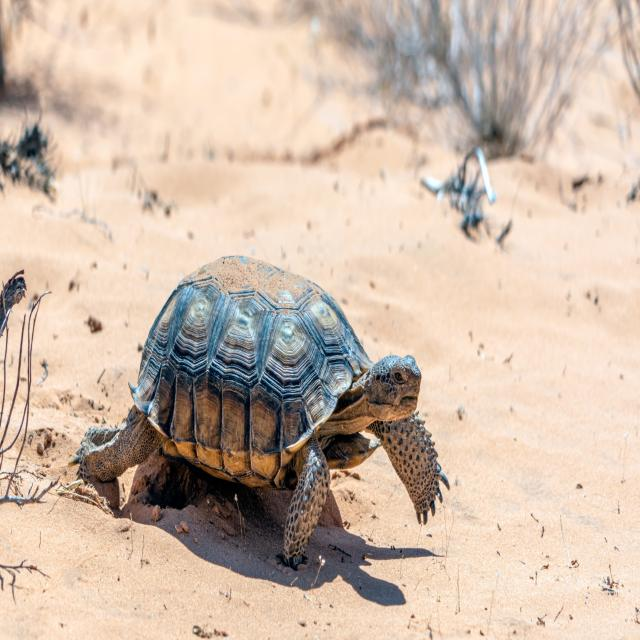tortoise: (66, 233, 458, 579), (376, 388, 452, 537), (275, 429, 330, 579), (351, 333, 428, 431)
